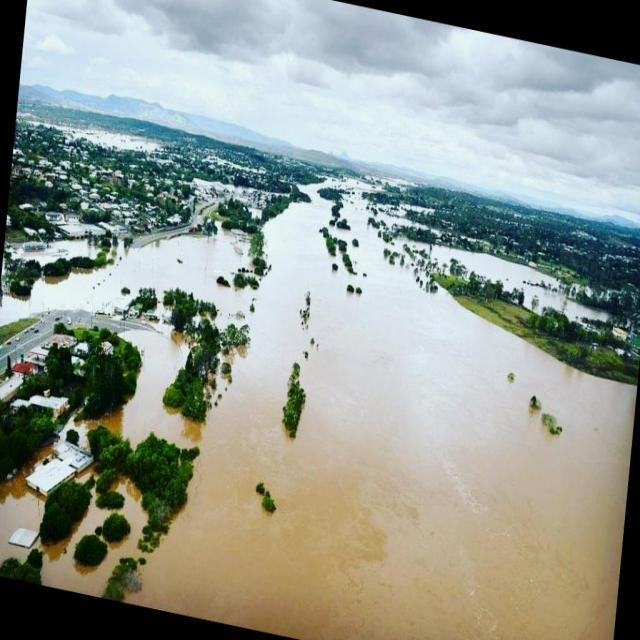flood: (135, 187, 639, 639)
